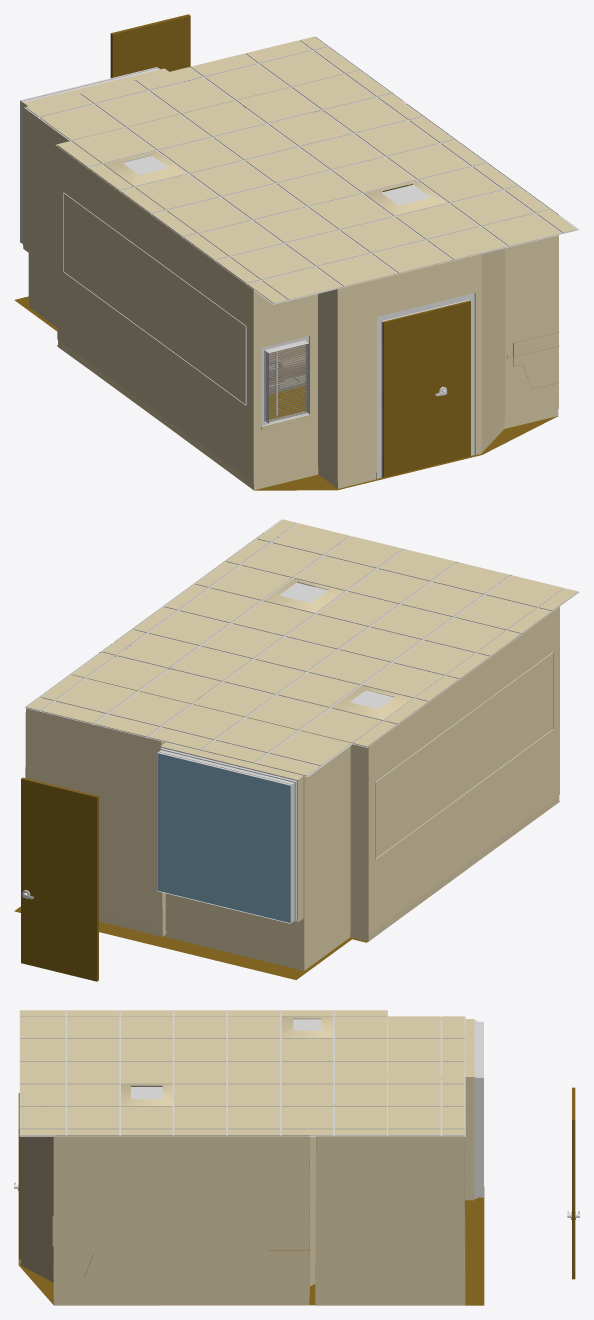
The model's file is Hospital_Room.fbx.
3 views of the same model, one above another, from view 1: azimuth 30°, elevation 25°; view 2: azimuth 150°, elevation 25°; view 3: azimuth 270°, elevation 25° (orthographic). The views are drawn at different scales.
Visible parts, largest first — view 1: Walls, Ceiling, Door_Entrance, BathroomDoor_Straight, Floor, Blinds_Small, Blanket; view 2: Walls, Ceiling, BathroomDoor_Straight, Floor; view 3: Walls, Ceiling, Floor, BathroomDoor_Straight.
Part boxes in pixels (x1,y1,x2,y2): Walls: (20,37,559,490); Ceiling: (24,36,579,304); Door_Entrance: (382,306,448,477); BathroomDoor_Straight: (110,14,190,77); Floor: (14,296,558,490); Blinds_Small: (269,344,307,422); Blanket: (269,344,305,382); Walls: (25,533,559,970); Ceiling: (24,519,579,776); BathroomDoor_Straight: (21,777,98,981); Floor: (14,801,559,979); Walls: (18,1010,483,1305); Ceiling: (19,1010,465,1136); Floor: (18,1186,484,1305); BathroomDoor_Straight: (567,1087,579,1279).
Bounding box in the file's own units: 434 × 277 × 822.
